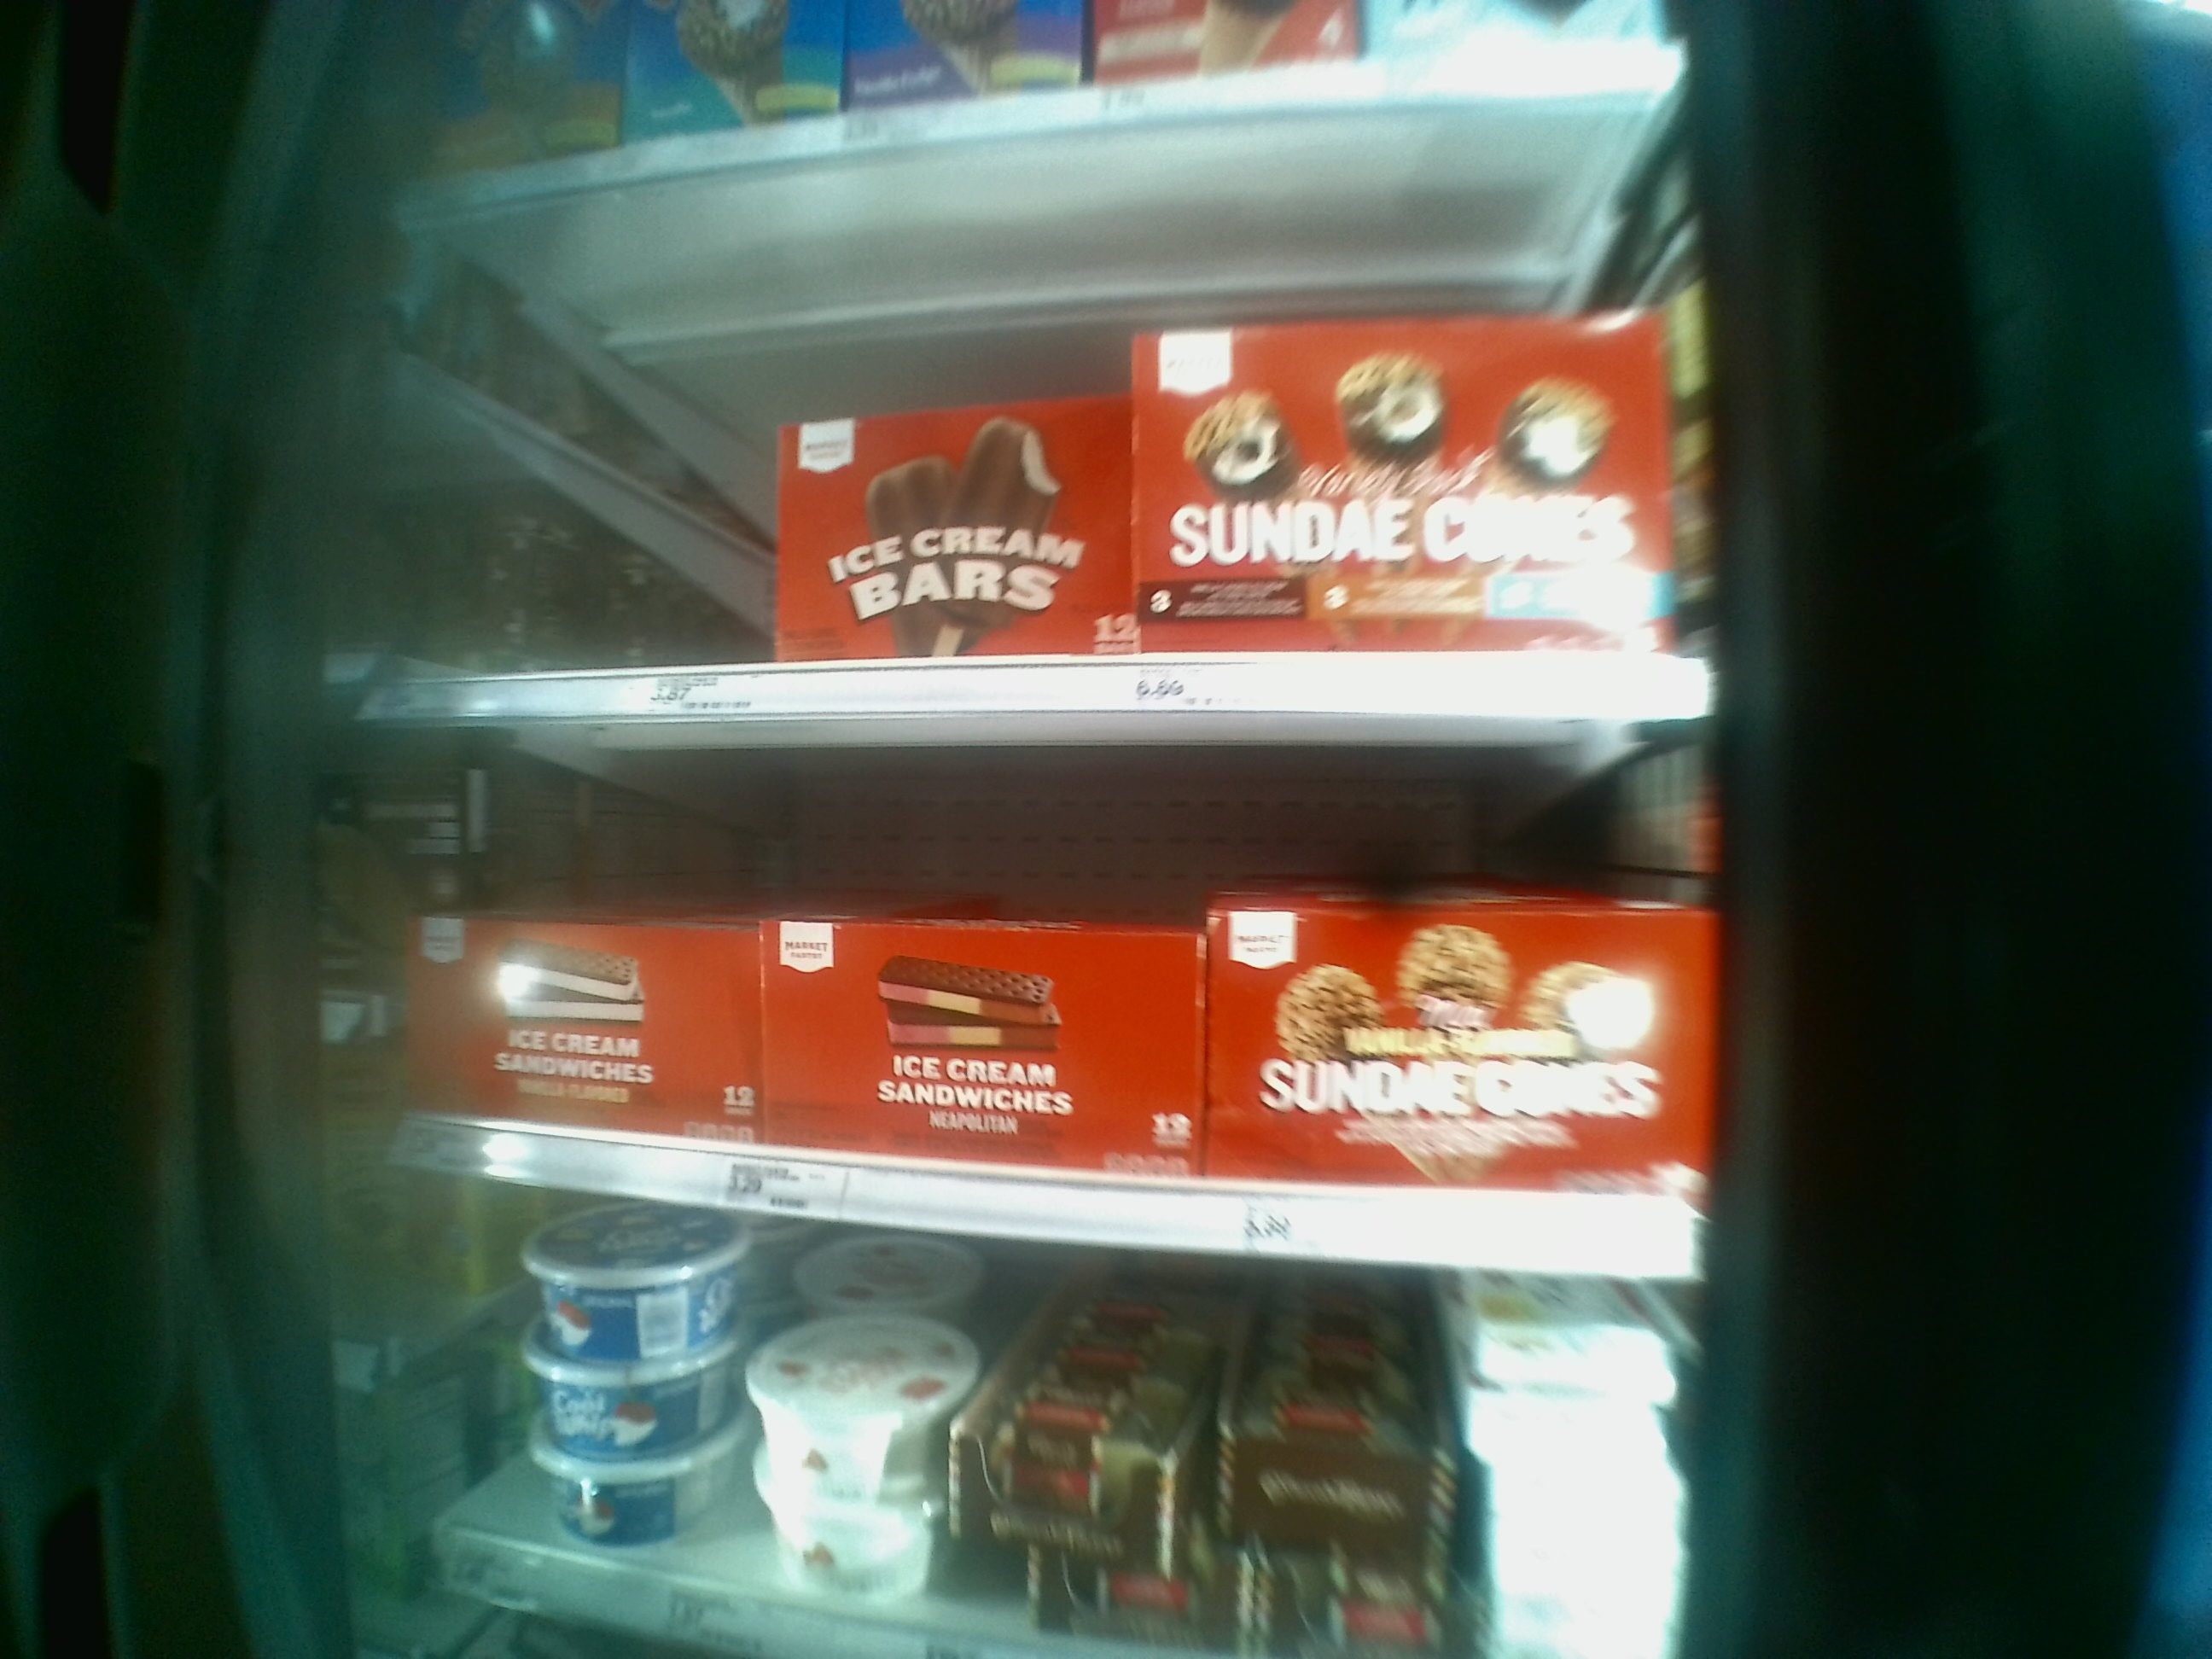shelf: (369, 692, 1724, 1215), (357, 209, 1709, 704)
